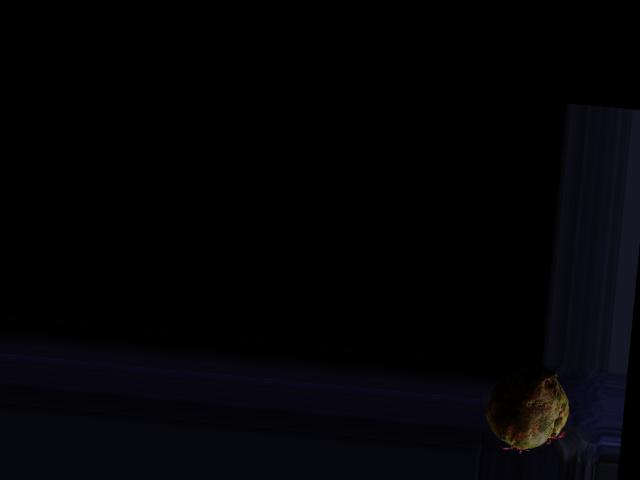beet: (483, 361, 573, 456)
